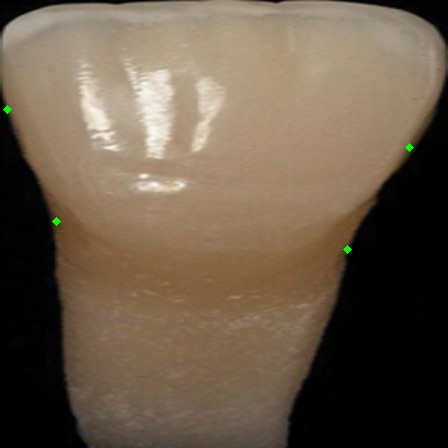coin_1: (347, 249, 367, 269)
coin_2: (409, 147, 429, 167)
coin_3: (56, 221, 76, 241)
coin_4: (7, 109, 27, 129)
